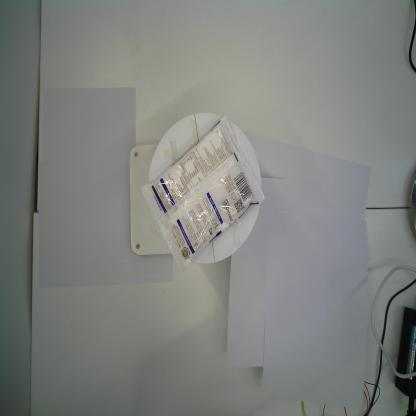Seasoner: (138, 111, 266, 273)
